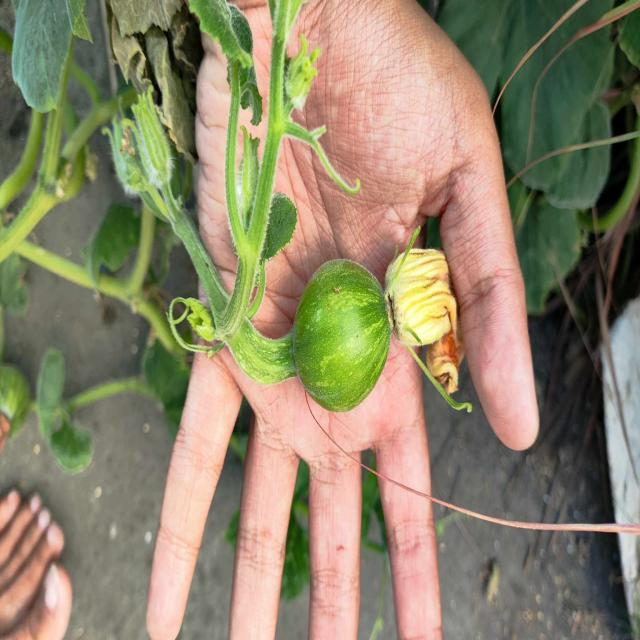squash: (291, 256, 397, 415)
